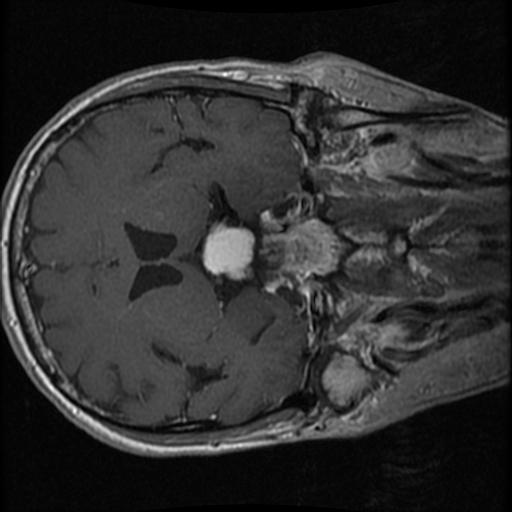meningioma: (201, 224, 256, 281)
